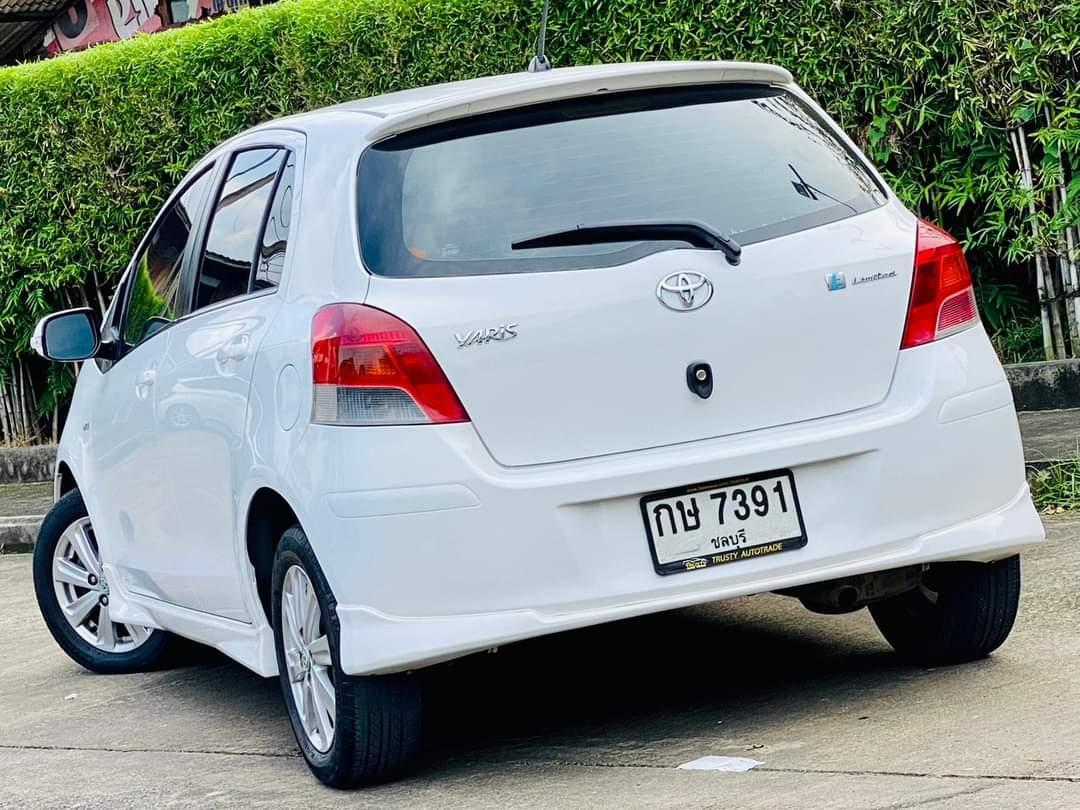license-plate: (638, 464, 813, 581)
